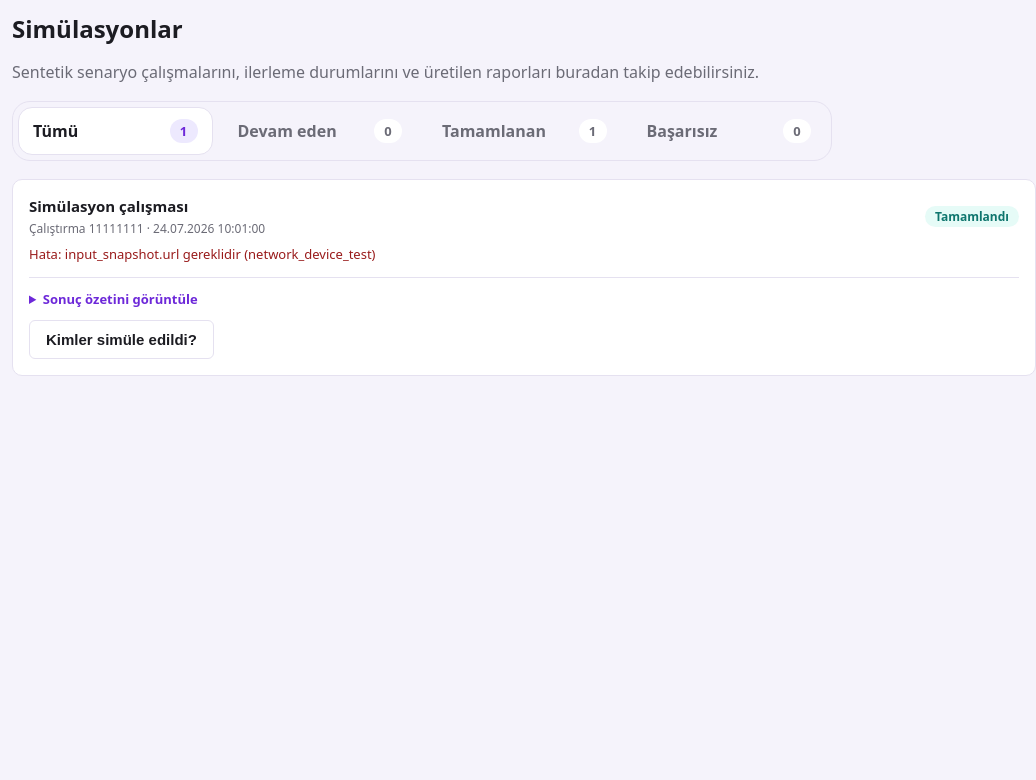
Test: Simulations - 'Kimler simüle edildi?' persona paneli › backend sirasi karisik gelse bile index ASC olarak gosterir
Expected: the text "Çalıştırma 11111111 · 24.07.2026 10:01:00" is shown, [29,220,265,237]
Click the button "Kimler simüle edildi?": (121, 340) [29,320,214,359]
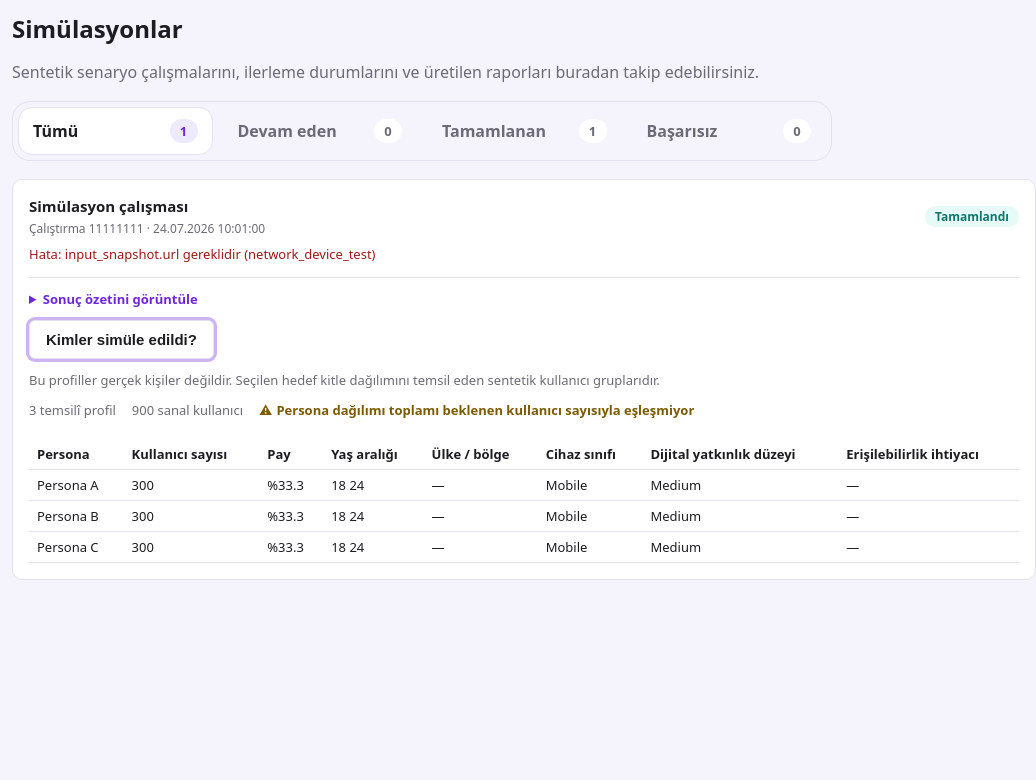
Expected: the text "3 temsilî profil" is shown, [29,401,116,419]
Expected: the text "Persona A" is shown, [29,470,124,500]
Expected: the text "Persona B" is shown, [29,500,124,532]
